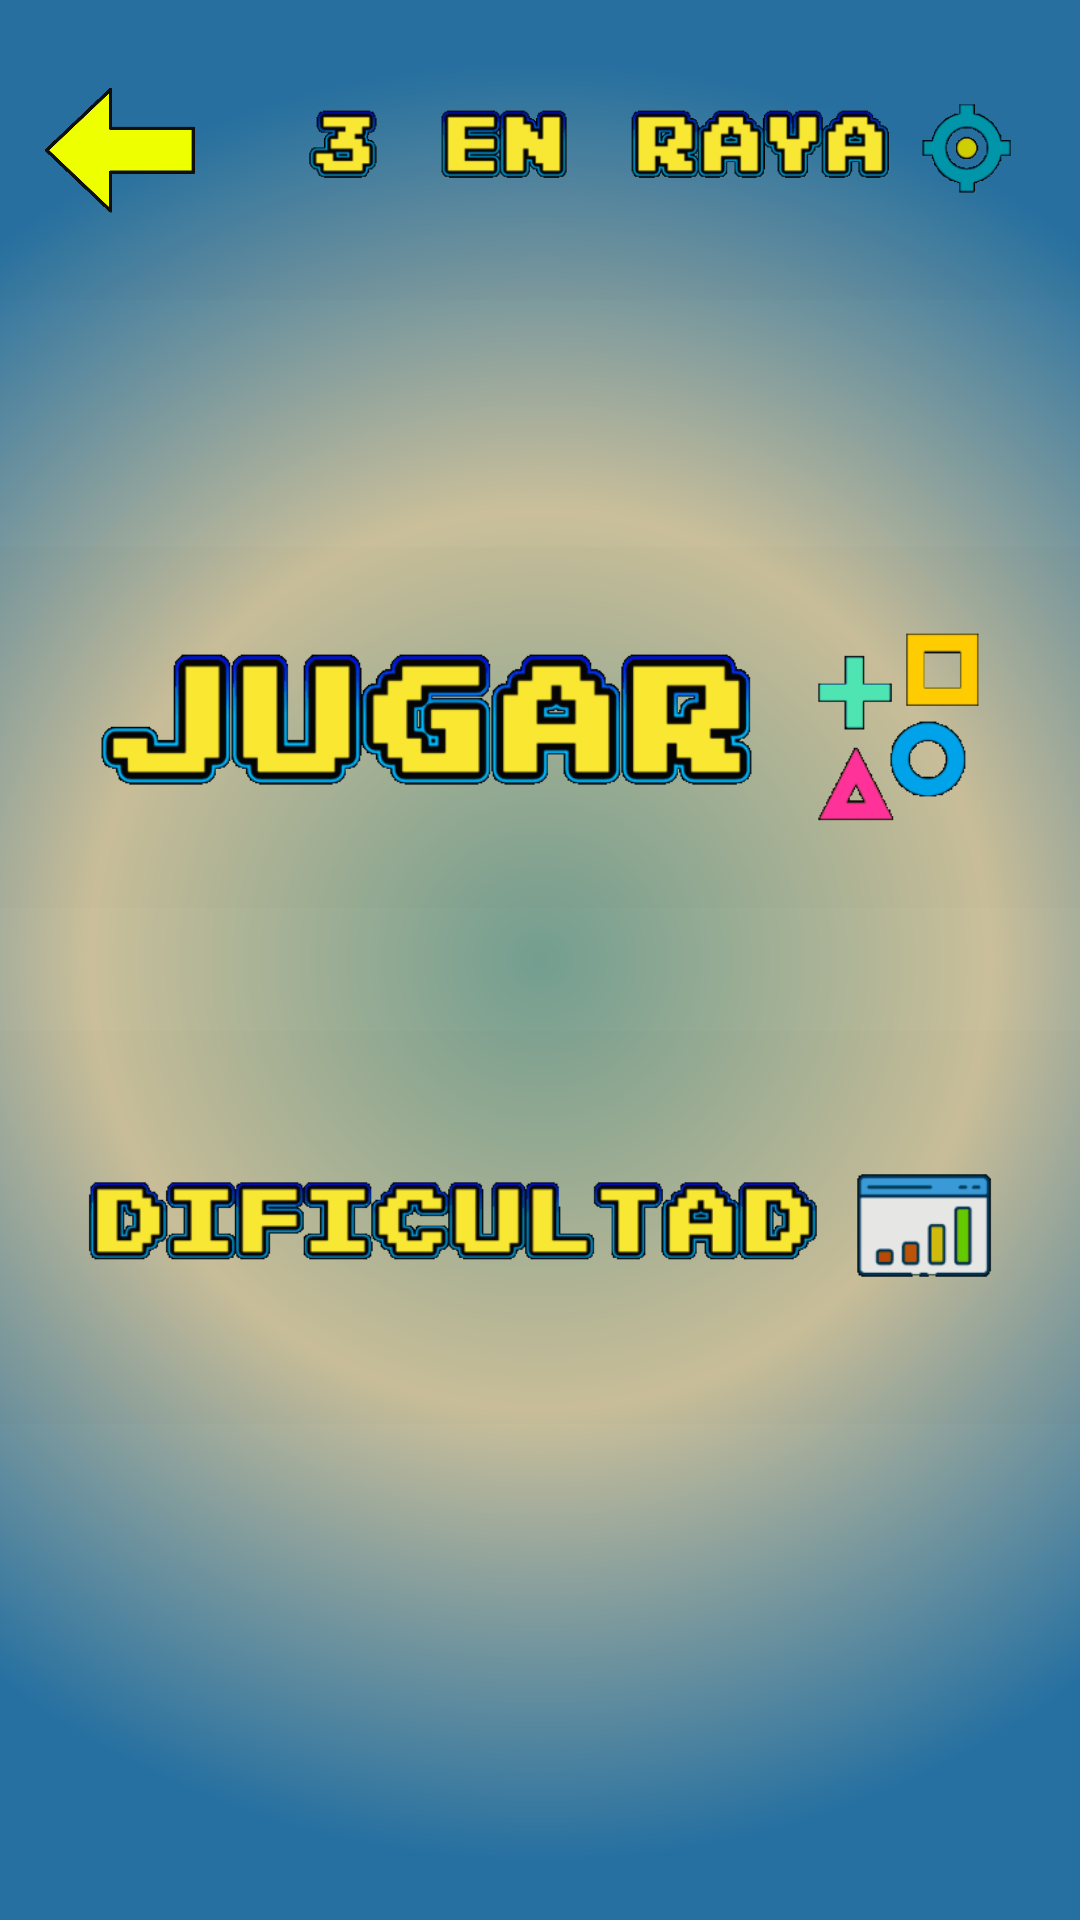

Where to tap for icons on this 1080 x 1920 app screen, as [x,y]:
back: [120,150]
